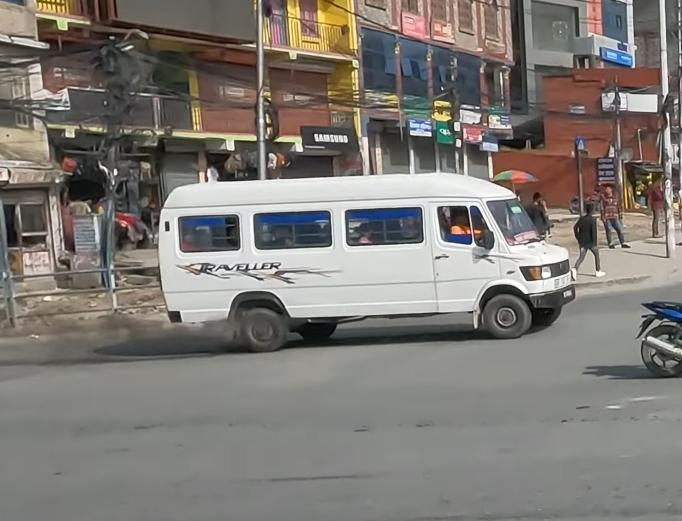bike: (635, 296, 682, 377)
micro_bus: (158, 168, 579, 346)
